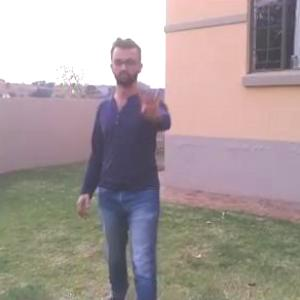takeoff-hand: (132, 72, 173, 122)
